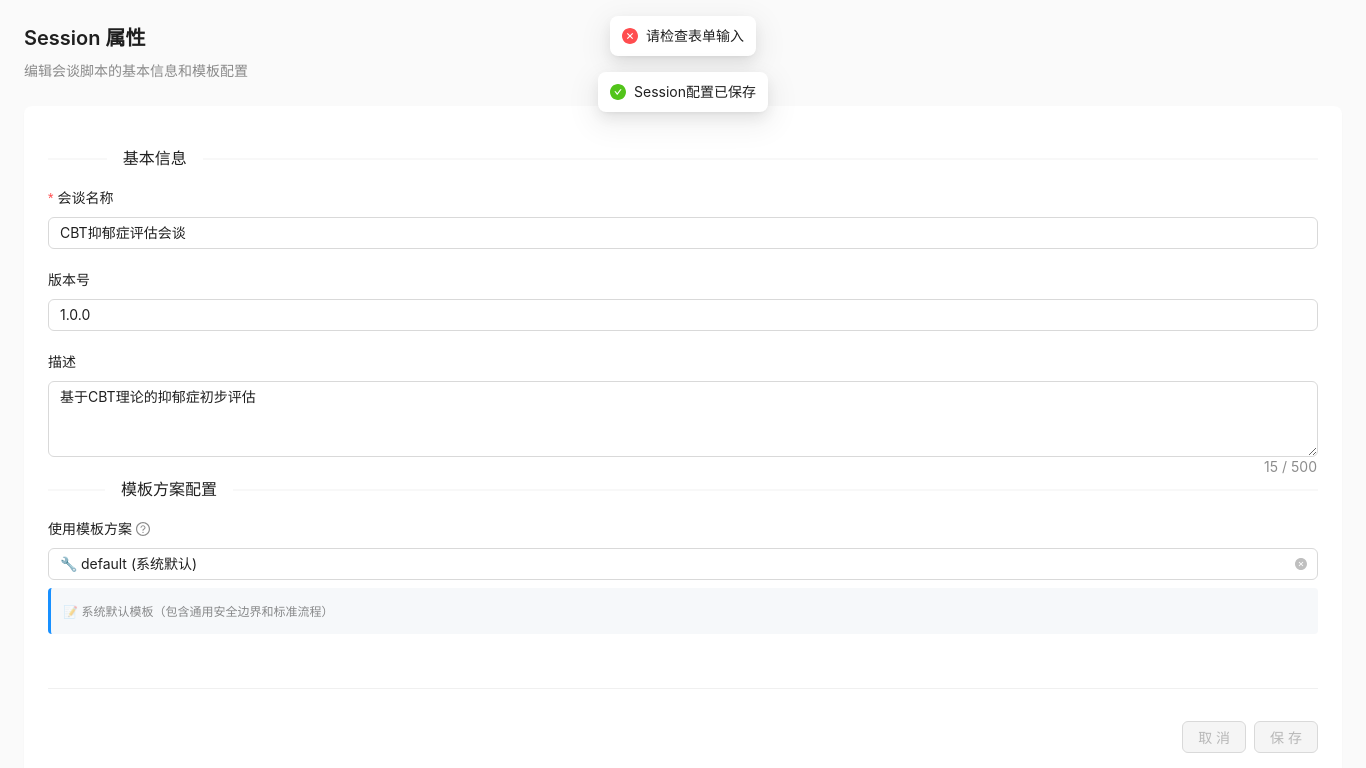
SessionPropertyPanel 组件 › 保存和取消功能 › 点击取消应该重置表单
Step 1. Replace the text in the field with test id "input-name" with "临时修改" → (683, 233), box [48, 217, 1318, 249]
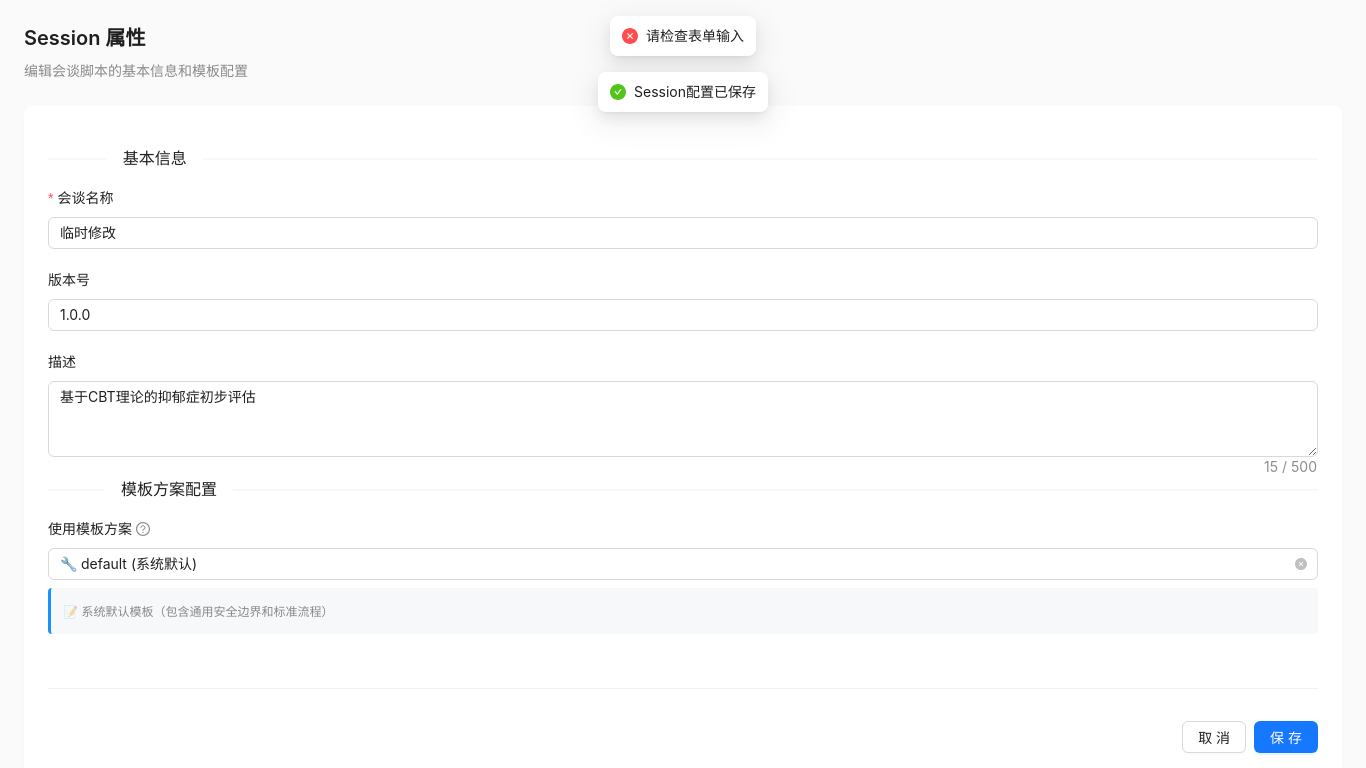
# 点击取消按钮（通过测试ID）
Step 2. Click the button with test id "btn-cancel" → (1214, 737), box [1182, 721, 1246, 753]
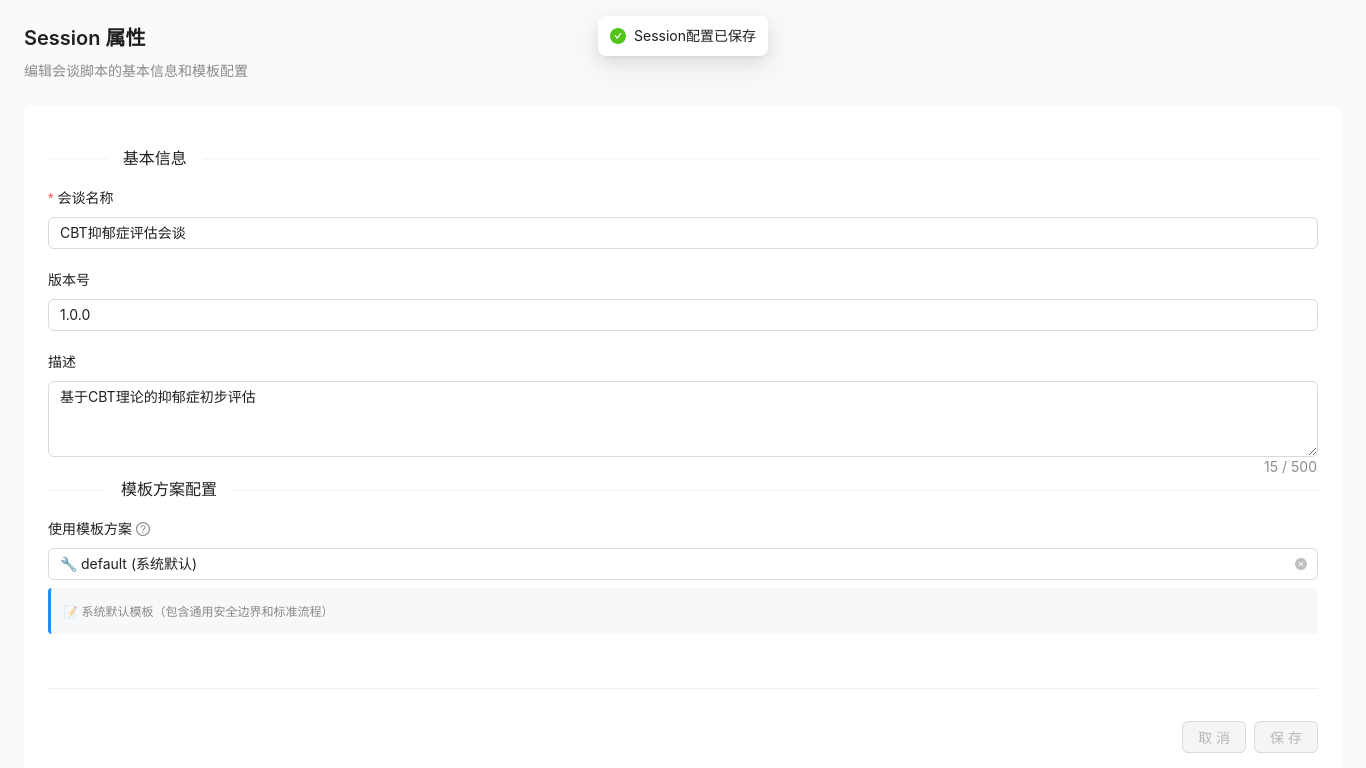
Expected: the field with test id "input-name" holds "CBT抑郁症评估会谈", [48, 217, 1318, 249]
